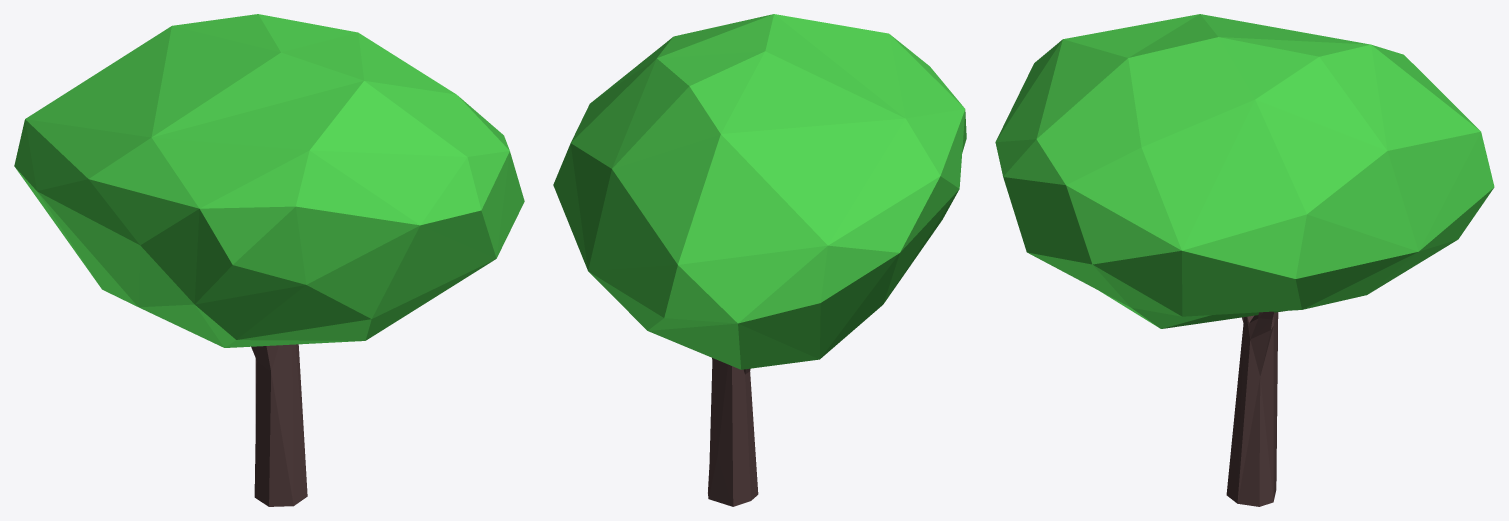
The picture shows the model from 3 angles, left to right: view 1: azimuth 30°, elevation 25°; view 2: azimuth 150°, elevation 25°; view 3: azimuth 270°, elevation 25°; orthographic projection. The views are drawn at different scales.
Visible parts, largest first — view 1: leaves_Icosphere.004, trunk_Cube.004; view 2: leaves_Icosphere.004, trunk_Cube.004; view 3: leaves_Icosphere.004, trunk_Cube.004.
Boxes of the visible parts, x1,y1,x2,y2 form: leaves_Icosphere.004: [14, 14, 524, 347]; trunk_Cube.004: [251, 344, 307, 506]; leaves_Icosphere.004: [553, 14, 966, 369]; trunk_Cube.004: [708, 358, 758, 506]; leaves_Icosphere.004: [995, 14, 1494, 328]; trunk_Cube.004: [1226, 311, 1278, 506].
Size of the model in its own units: 634 by 703 by 705.
